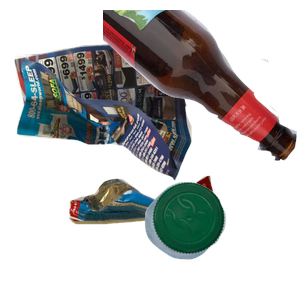glass: (103, 10, 300, 163)
paper: (12, 31, 196, 204)
plastic: (142, 179, 300, 300)
trash: (66, 173, 272, 300)
